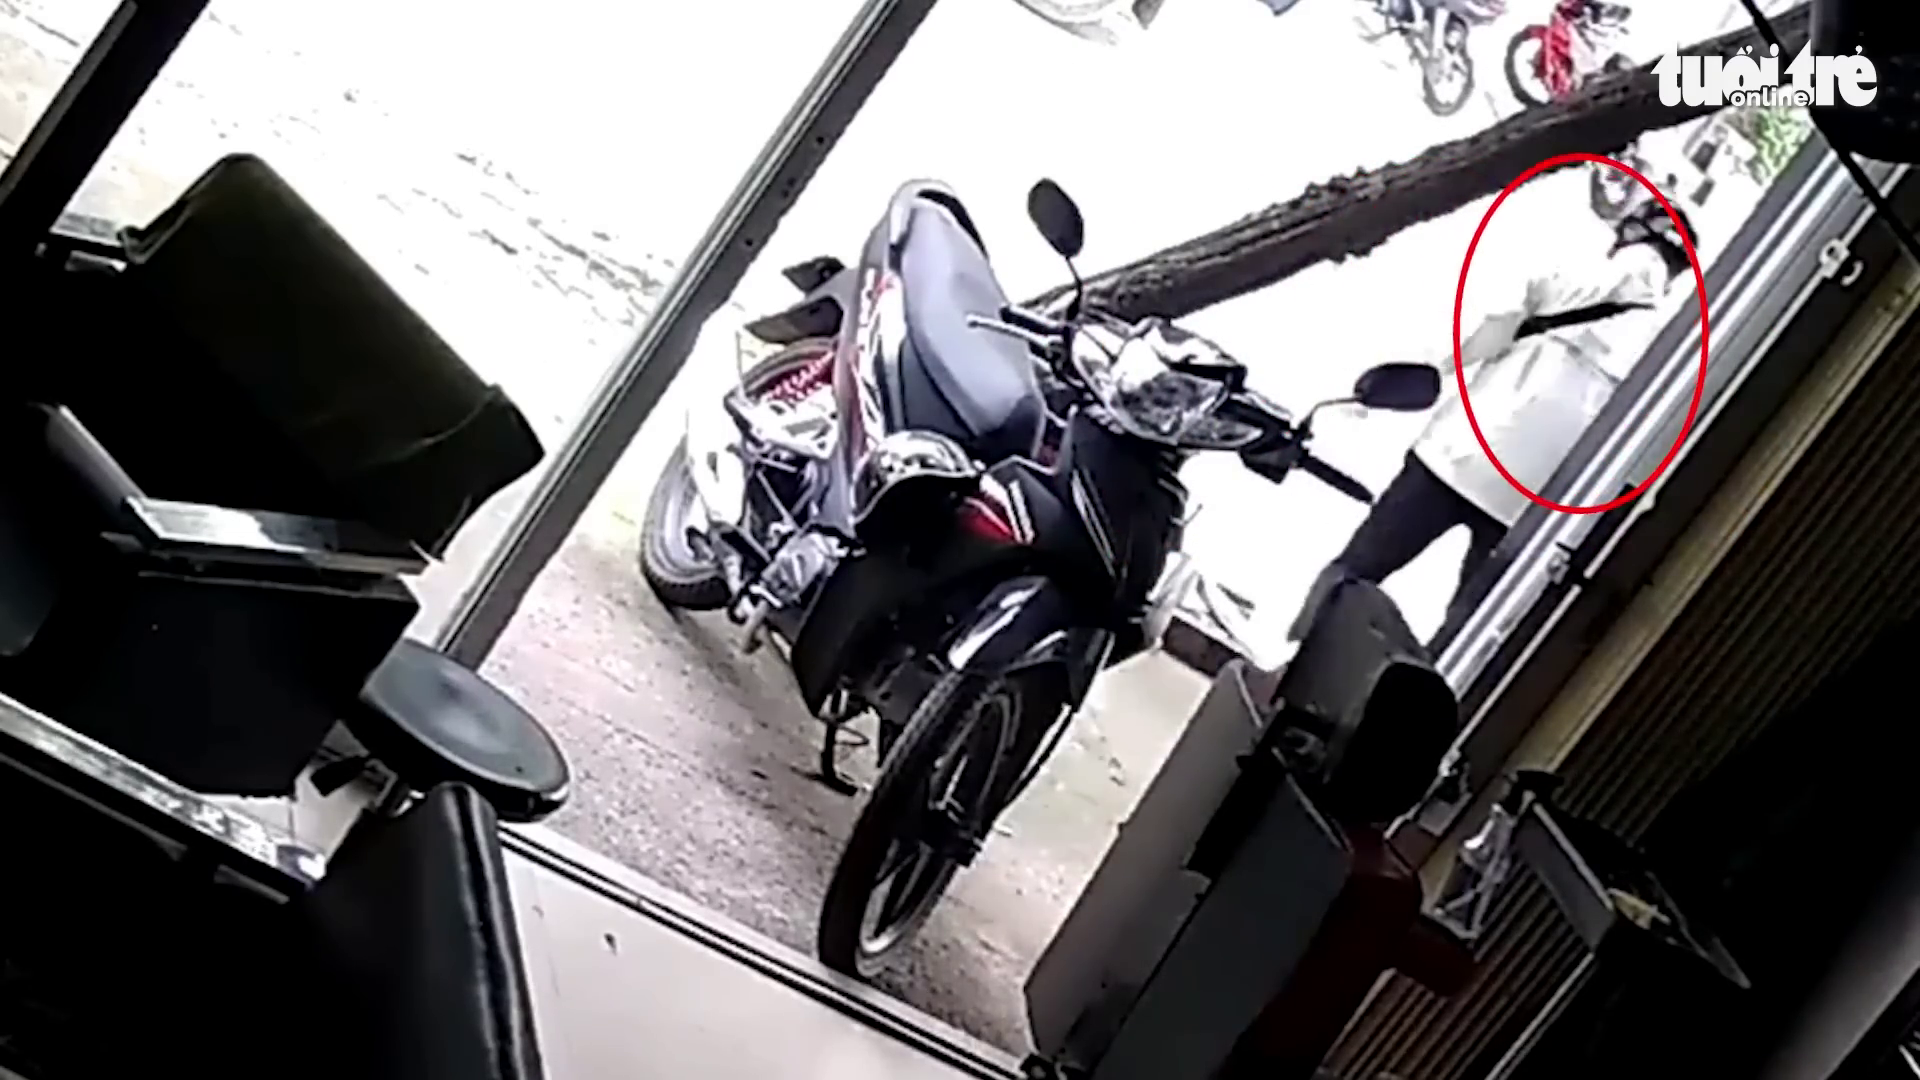Motorcycle: (1, 115, 578, 1052), (791, 177, 1449, 978), (637, 179, 1044, 785), (638, 245, 861, 640), (1352, 0, 1505, 116), (1506, 1, 1636, 107)
